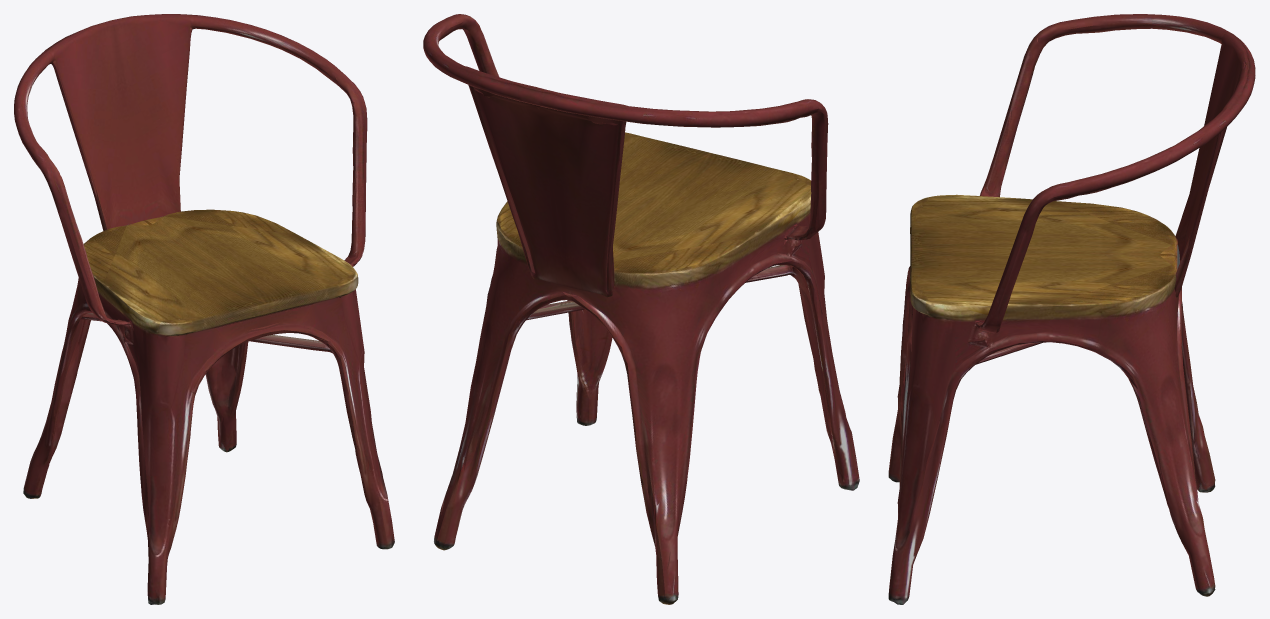
The model's file is cadeira-0409361.glb.
3 renders of one model, left to right at view 1: azimuth 30°, elevation 25°; view 2: azimuth 150°, elevation 25°; view 3: azimuth 270°, elevation 25°, orthographic. The views are drawn at different scales.
Parts seen in each view (by area): view 1: 0409361; view 2: 0409361; view 3: 0409361.
Part boxes in pixels (x1,y1,x2,y2): 0409361: (14, 14, 394, 604); 0409361: (423, 14, 859, 604); 0409361: (888, 14, 1255, 604).
Size of the model in its own units: 549 by 726 by 503.
Materials: 3 (2 with a texture image).
